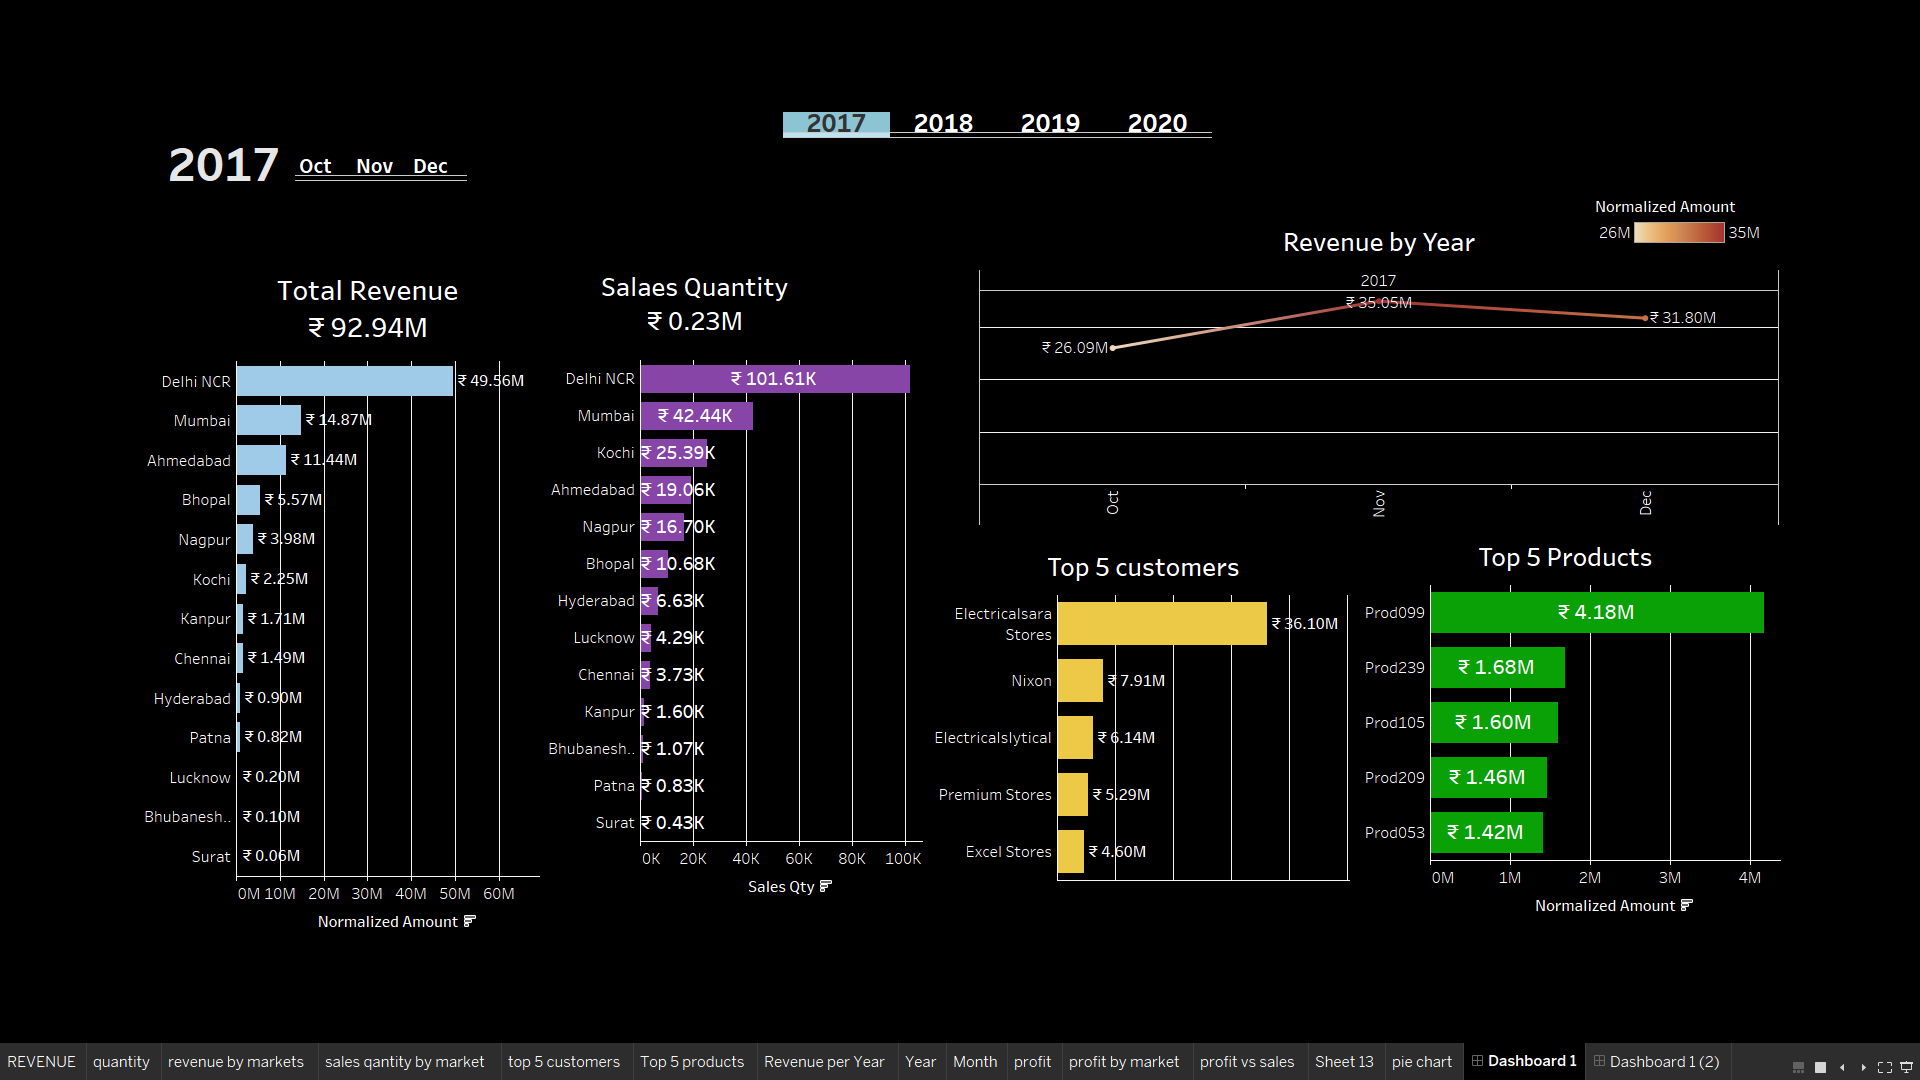

The page's visual inventory and layout, read from the dashboard file:
{"tool":"tableau","page":{"name":"Dashboard 1","canvas":[1650,850],"ordinal":0},"visuals":[{"type":"worksheet","title":"Year","mark":"Automatic","cols":["cy_date"],"box":[648,1,446,62]},{"type":"worksheet","box":[25,25,375,78]},{"type":"worksheet","title":"Month","mark":"Automatic","cols":["cy_date"],"box":[503,47,715,58]},{"type":"worksheet","title":"Revenue per Year","mark":"Line","rows":["Calculation_1130122082506117121"],"cols":["cy_date","cy_date"],"param":"[federated.1wn63oq0kgk8pm16fl8hp06h48ja].[sum:Calculation_1130122082506117121:qk","box":[1460,100,170,65]},{"type":"worksheet","title":"Revenue per Year","mark":"Line","rows":["Calculation_1130122082506117121"],"cols":["cy_date","cy_date"],"box":[844,124,800,306]},{"type":"worksheet","title":"quantity","mark":"Automatic","box":[517,164,211,115]},{"type":"worksheet","title":"REVENUE","mark":"Automatic","box":[133,175,201,96]},{"type":"worksheet","title":"sales qantity by market","mark":"Automatic","rows":["markets_name"],"cols":["sales_qty"],"box":[413,264,375,585]},{"type":"worksheet","title":"revenue by markets","mark":"Automatic","rows":["markets_name"],"cols":["Calculation_1130122082506117121"],"box":[9,265,396,578]},{"type":"worksheet","title":"Top 5 products","mark":"Automatic","rows":["product_code (products)"],"cols":["Calculation_1130122082506117121"],"box":[1215,439,431,407]},{"type":"worksheet","title":"top 5 customers","mark":"Automatic","rows":["custmer_name"],"cols":["Calculation_1130122082506117121"],"box":[798,449,421,397]}]}

Visuals, with their boxes on the page's 1650x850 design canvas (x1, y1, x2, y2). These are canvas units, not pixel positions in the 1920x1080 screenshot, which may show the page scaled, cropped or inside an application window:
"Year" worksheet: [648, 1, 1094, 63]
worksheet: [25, 25, 400, 103]
"Month" worksheet: [503, 47, 1218, 105]
"Revenue per Year" worksheet (Line marks): [1460, 100, 1630, 165]
"Revenue per Year" worksheet (Line marks): [844, 124, 1644, 430]
"quantity" worksheet: [517, 164, 728, 279]
"REVENUE" worksheet: [133, 175, 334, 271]
"sales qantity by market" worksheet: [413, 264, 788, 849]
"revenue by markets" worksheet: [9, 265, 405, 843]
"Top 5 products" worksheet: [1215, 439, 1646, 846]
"top 5 customers" worksheet: [798, 449, 1219, 846]
